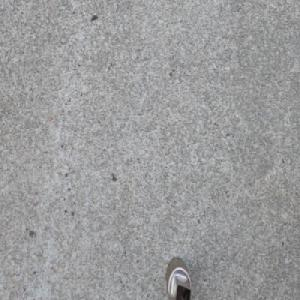MetalPart: (163, 255, 193, 300)
